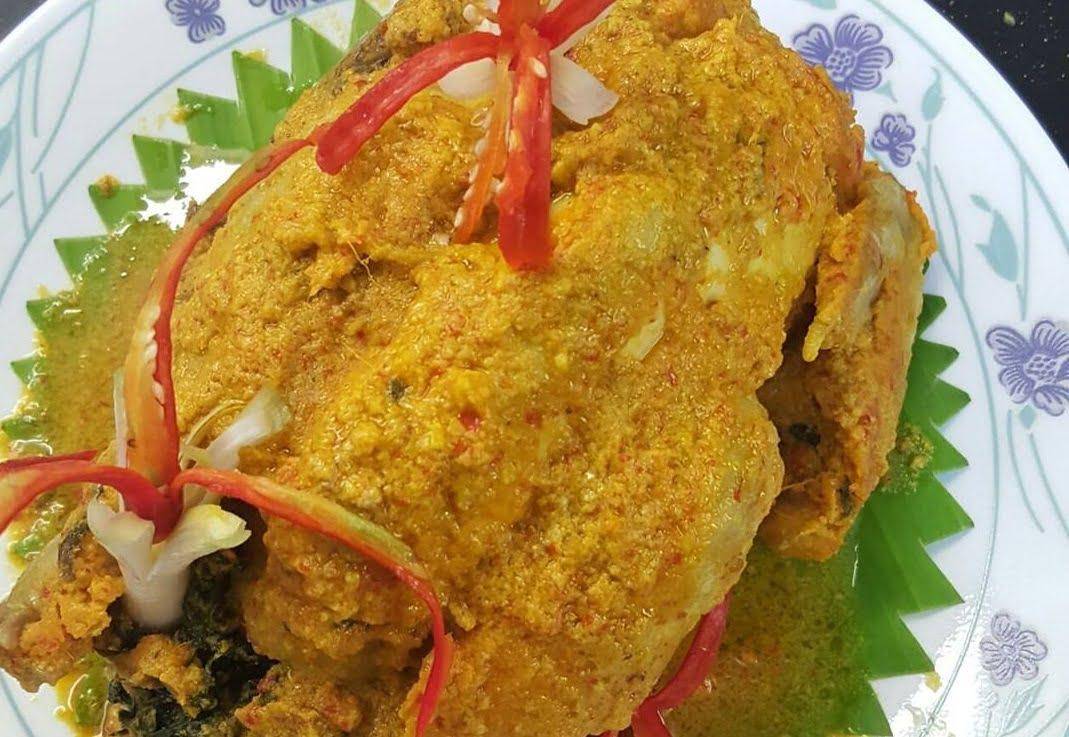ayam_betutu: (84, 7, 932, 737)
